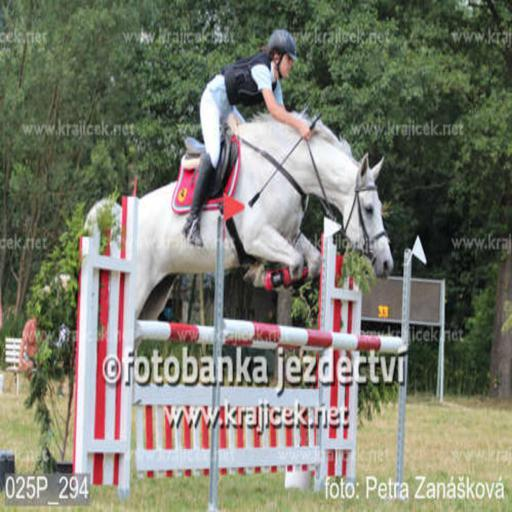Horse: (82, 106, 394, 358)
